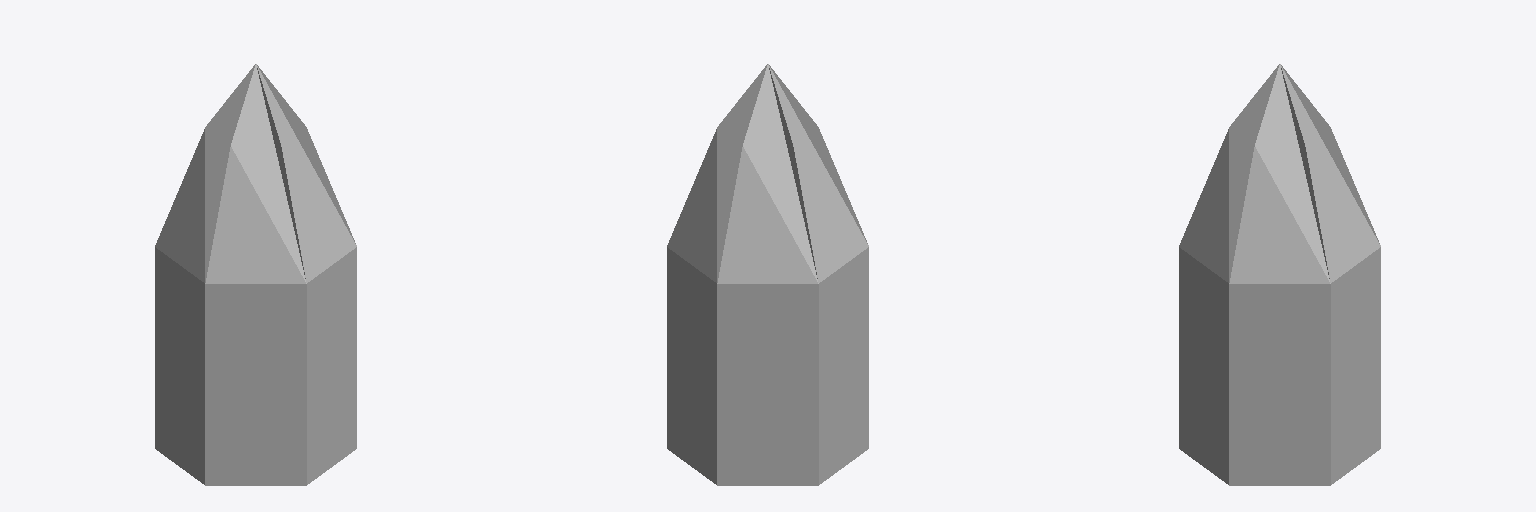
Rendered from bullet.obj.
3 renders of one model, left to right at view 1: azimuth 30°, elevation 25°; view 2: azimuth 150°, elevation 25°; view 3: azimuth 270°, elevation 25°, orthographic.
Parts seen in each view (by area): view 1: Cone; view 2: Cone; view 3: Cone.
Part boxes in pixels (bbox=[...]): Cone: bbox=[155, 64, 356, 485]; Cone: bbox=[667, 64, 868, 485]; Cone: bbox=[1179, 64, 1380, 485].
Bounding box in the file's own units: 1.73 × 4.2 × 2.